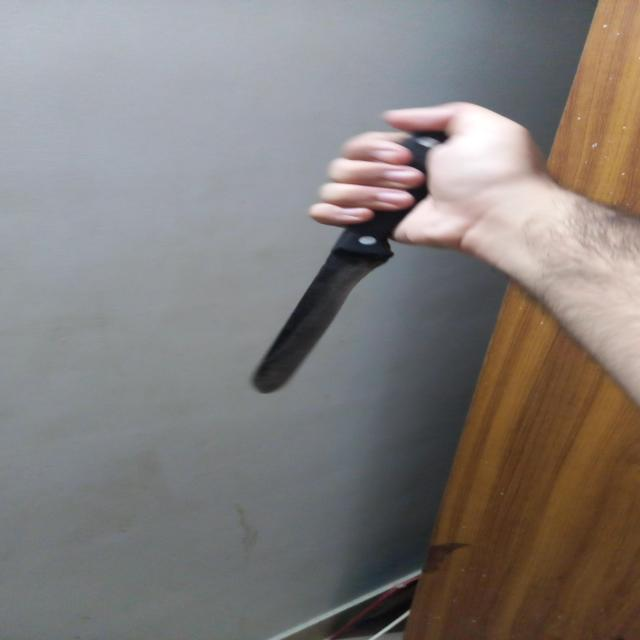faca: (255, 130, 450, 394)
